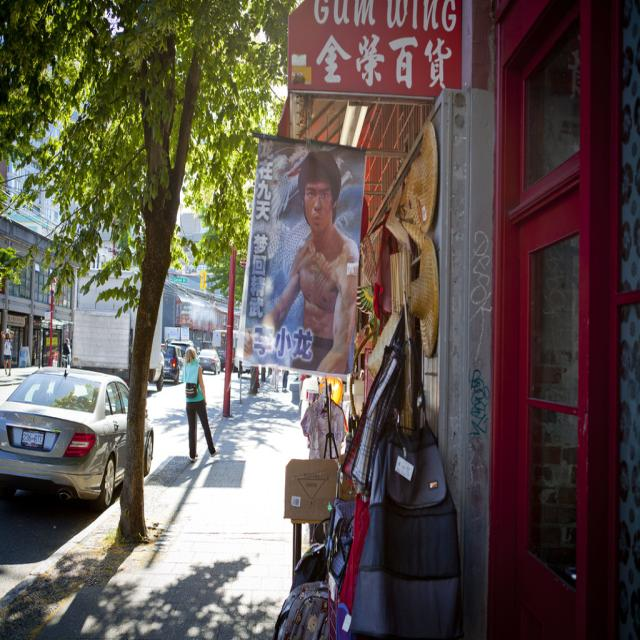car: (1, 360, 131, 519), (161, 337, 188, 385), (194, 345, 223, 374)
